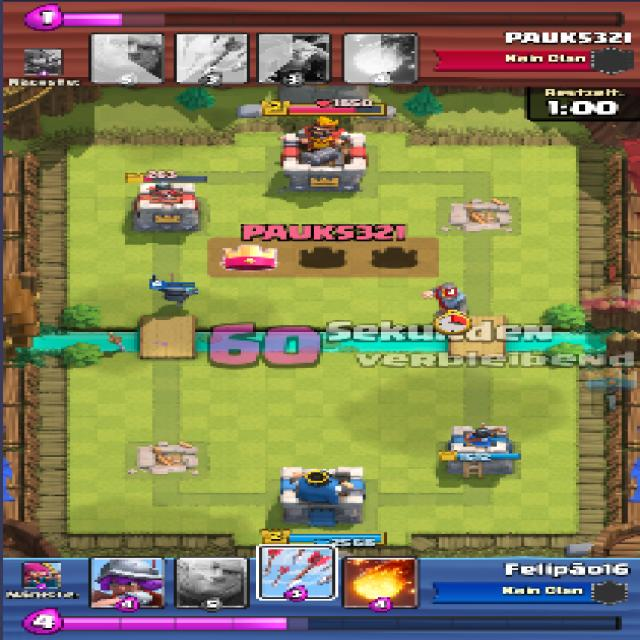Enemy-Knight: (425, 285, 468, 315)
Player-MiniPEKKA: (149, 278, 196, 303)
